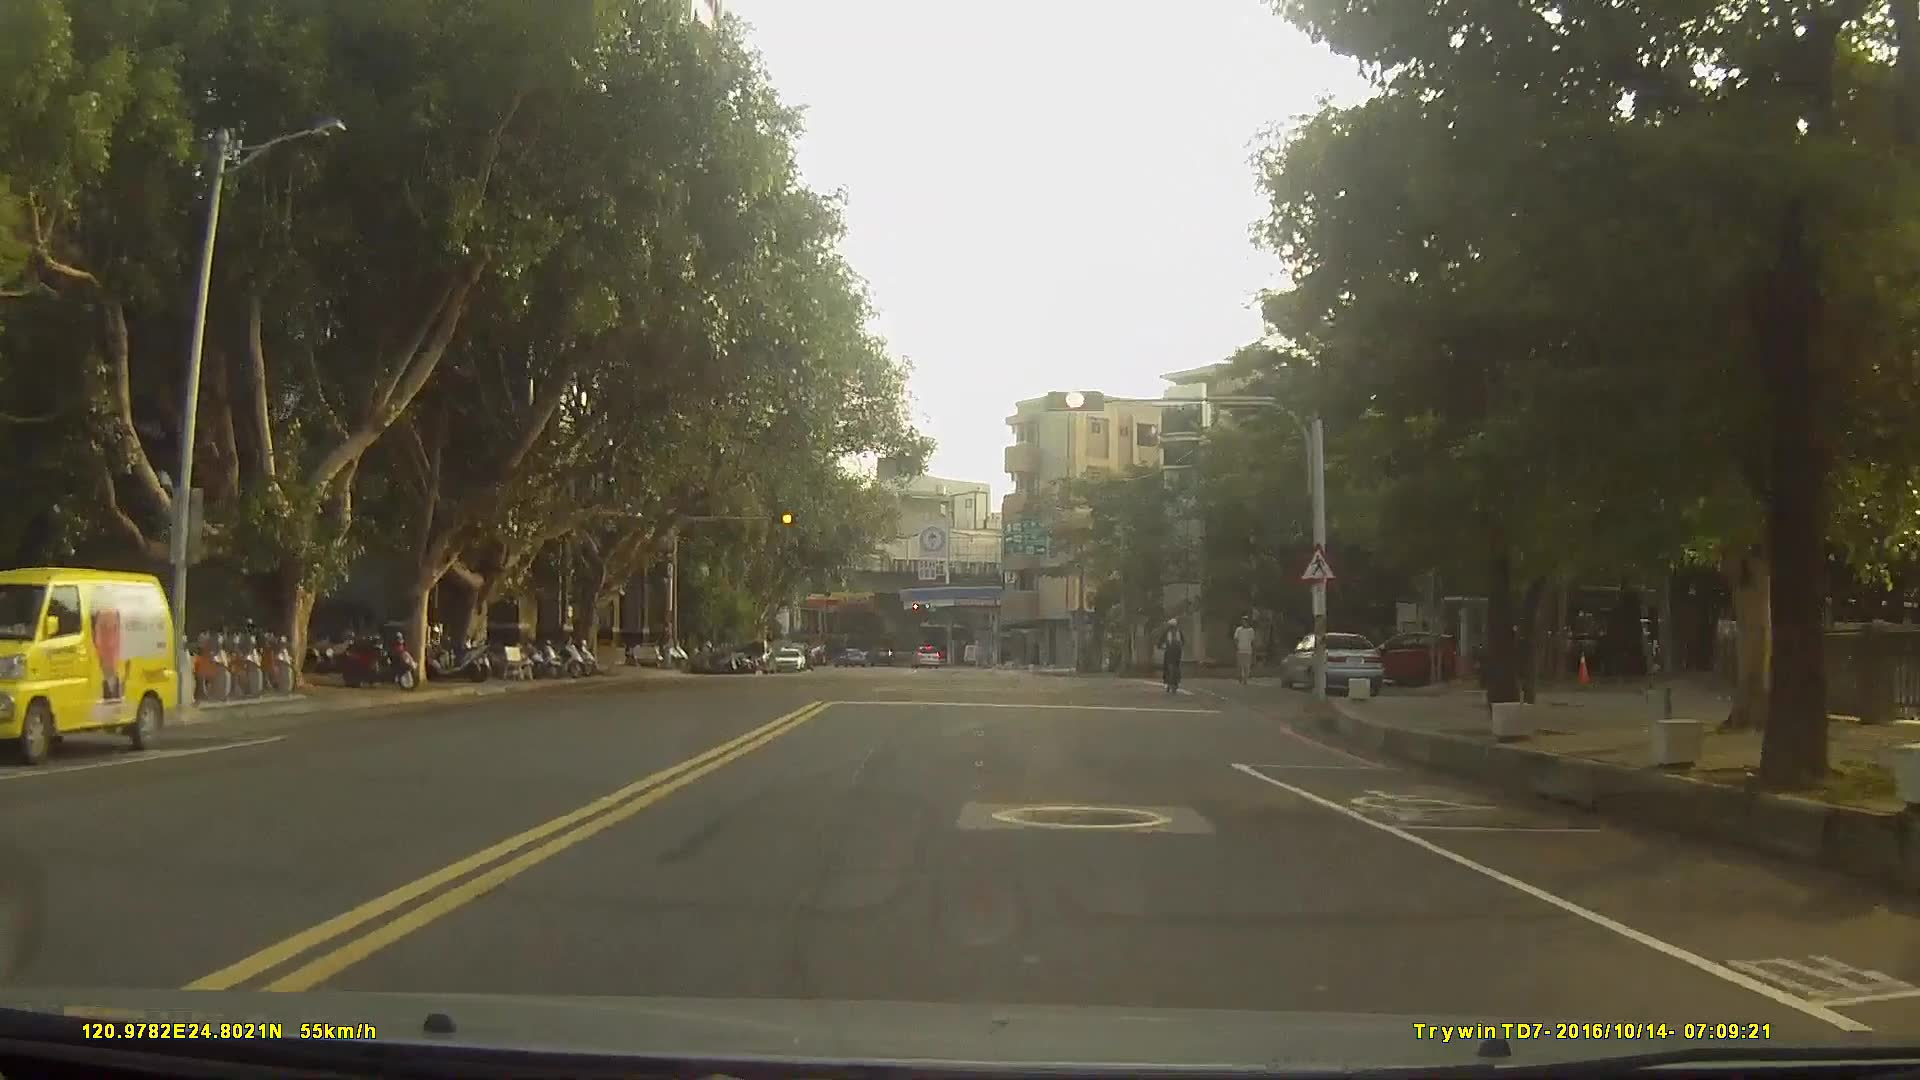pedestrian: (1231, 611, 1261, 687)
rider: (1163, 616, 1192, 693)
vehicle: (1278, 632, 1384, 695), (1352, 627, 1459, 689), (772, 645, 804, 670), (906, 642, 939, 666)
